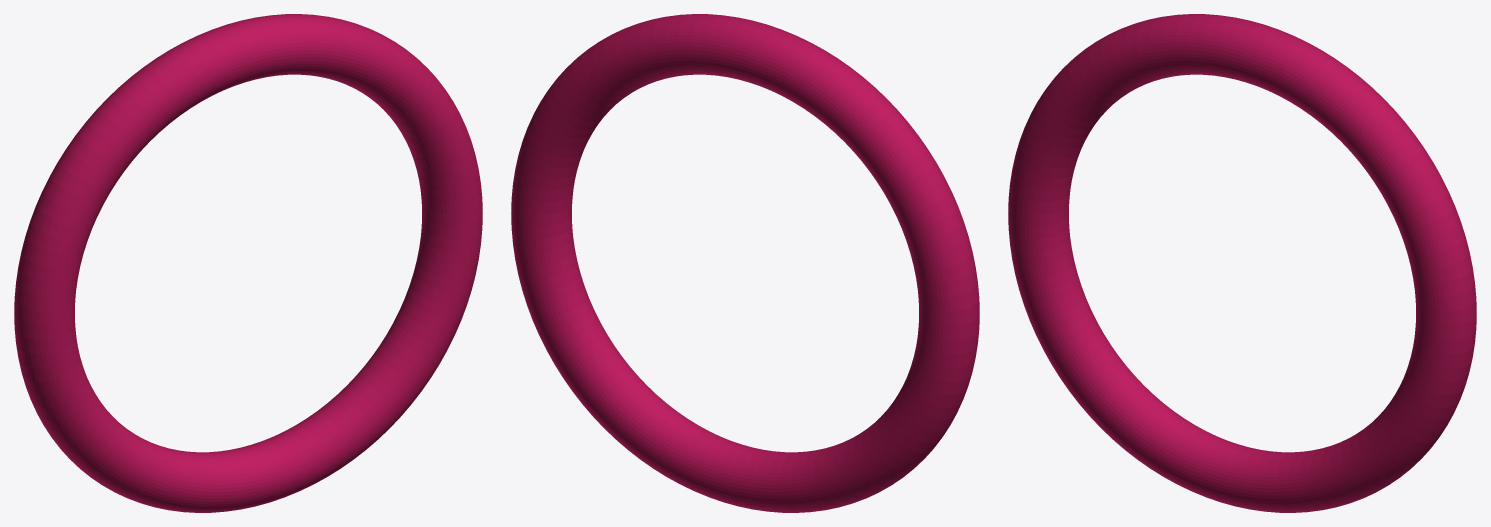
The picture shows the model from 3 angles, left to right: view 1: azimuth 30°, elevation 25°; view 2: azimuth 150°, elevation 25°; view 3: azimuth 330°, elevation 25°; orthographic projection.
Parts seen in each view (by area): view 1: world; view 2: world; view 3: world.
Part boxes in pixels (x1,y1,x2,y2): world: (14, 14, 482, 512); world: (511, 14, 979, 512); world: (1008, 14, 1476, 512).
Bounding box in the file's own units: 33.87 × 33.87 × 3.86.
